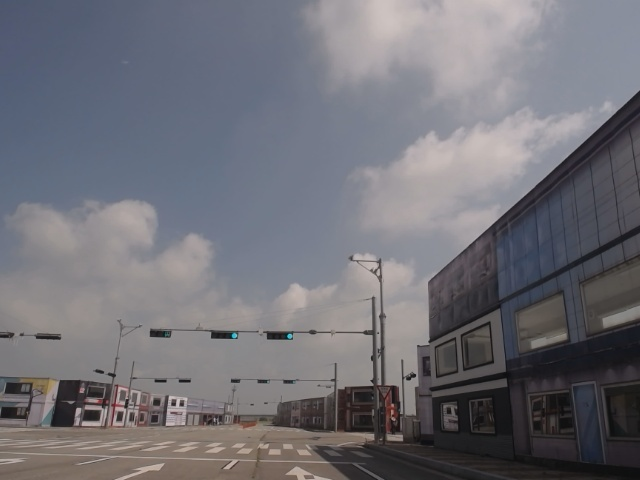straight_green_4: (210, 329, 239, 339), (268, 332, 294, 341)
